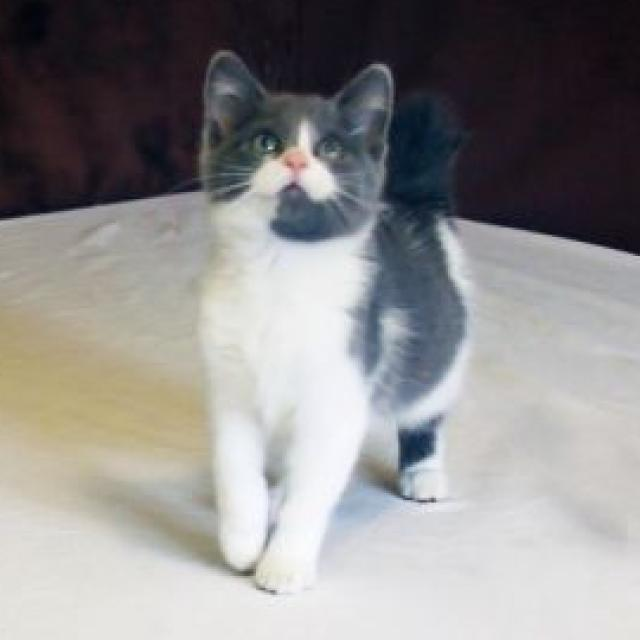American Bobtail: (192, 42, 482, 604)
